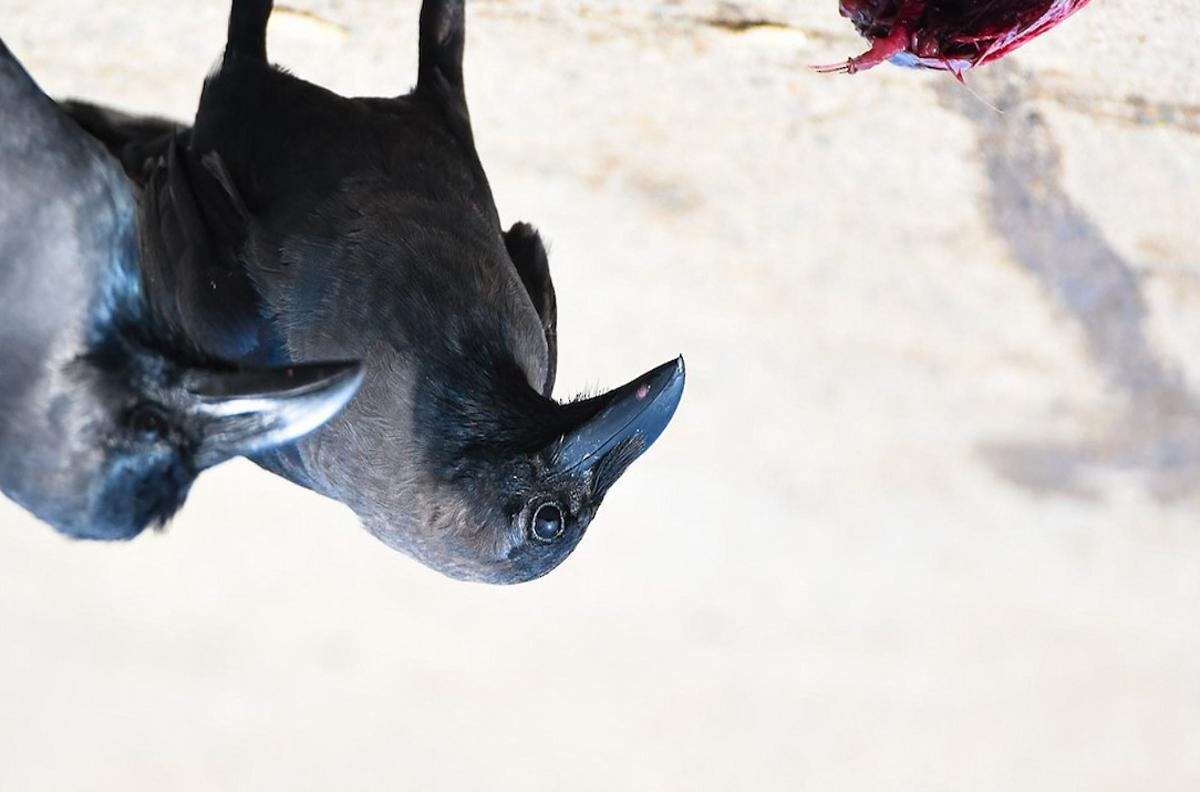crow: (190, 1, 707, 613), (1, 60, 366, 550)
